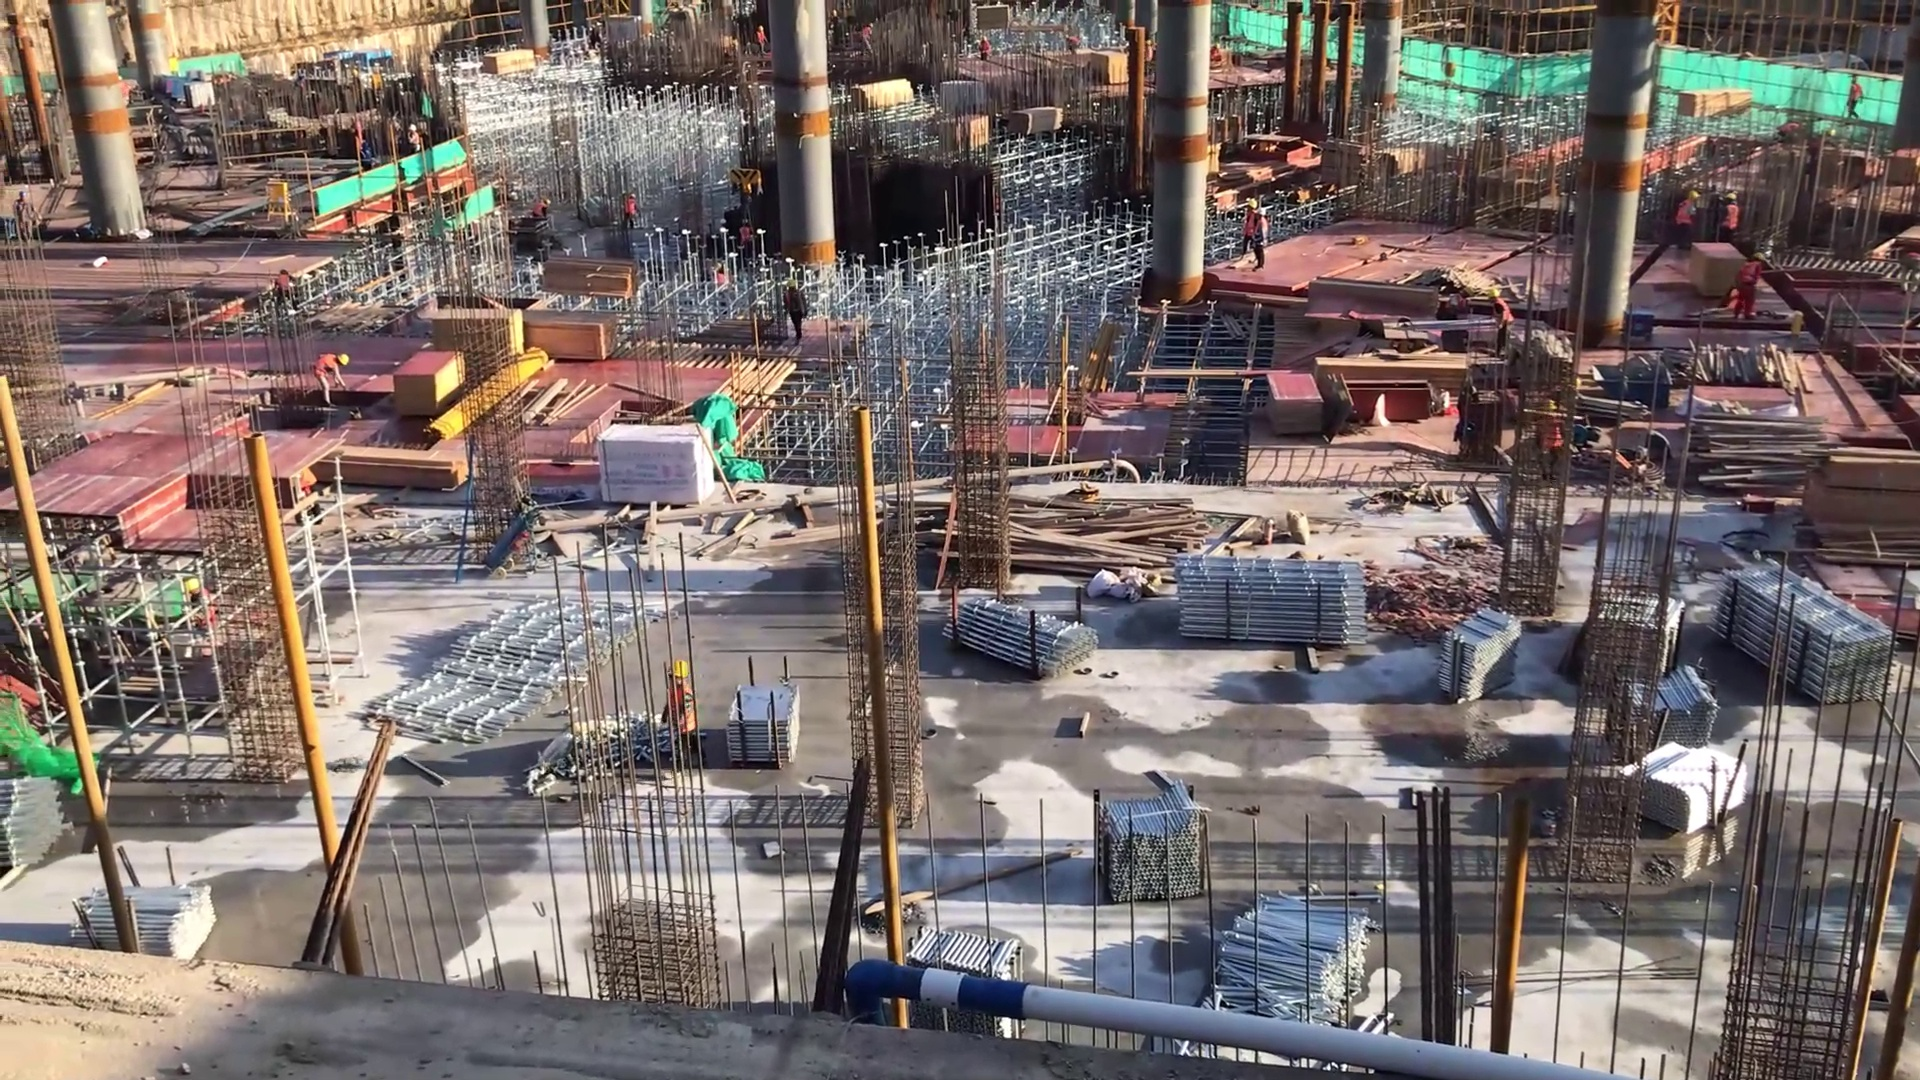board: (394, 345, 466, 425), (429, 307, 517, 362), (1261, 369, 1325, 441), (1834, 602, 1920, 651), (1087, 47, 1131, 89)
ebox: (259, 176, 298, 234)
helmet: (184, 573, 209, 601), (669, 661, 690, 683), (1485, 285, 1503, 304), (335, 351, 353, 368), (1752, 248, 1767, 264), (787, 275, 799, 294), (1688, 190, 1701, 204), (1727, 188, 1737, 206), (1255, 206, 1269, 218), (408, 122, 419, 133)
hook: (1587, 363, 1676, 421)
person: (663, 660, 705, 780), (1731, 247, 1770, 329), (1439, 282, 1478, 355), (312, 349, 354, 410), (1714, 185, 1746, 255), (780, 277, 814, 343), (1675, 185, 1702, 260), (1486, 288, 1517, 353), (14, 186, 43, 252), (272, 264, 302, 321), (1241, 195, 1262, 265), (1767, 113, 1811, 145), (1845, 73, 1869, 126), (1254, 205, 1273, 273), (736, 214, 761, 264), (856, 21, 883, 57), (622, 190, 639, 242), (405, 124, 425, 163), (1061, 32, 1084, 63), (533, 197, 555, 227), (359, 135, 374, 173), (755, 22, 771, 60), (978, 35, 992, 62)
scaffold: (1219, 892, 1397, 1042), (1168, 538, 1377, 659), (1719, 564, 1900, 696), (54, 866, 225, 980), (1100, 788, 1222, 920), (947, 581, 1105, 682), (1431, 606, 1526, 701), (1612, 664, 1705, 756)
vest: (663, 682, 698, 737), (1738, 258, 1761, 293), (1491, 297, 1516, 326), (314, 351, 338, 381), (1720, 202, 1743, 230), (1676, 199, 1695, 228), (1255, 217, 1269, 248), (624, 198, 639, 222), (275, 274, 293, 293), (534, 202, 548, 220)
wood: (1009, 494, 1202, 577), (1688, 406, 1824, 508), (1811, 442, 1920, 556), (1311, 354, 1473, 406), (312, 441, 466, 492), (520, 310, 614, 361), (537, 253, 641, 298), (1679, 85, 1760, 116), (853, 80, 911, 120), (479, 45, 538, 79), (1009, 101, 1066, 133)
